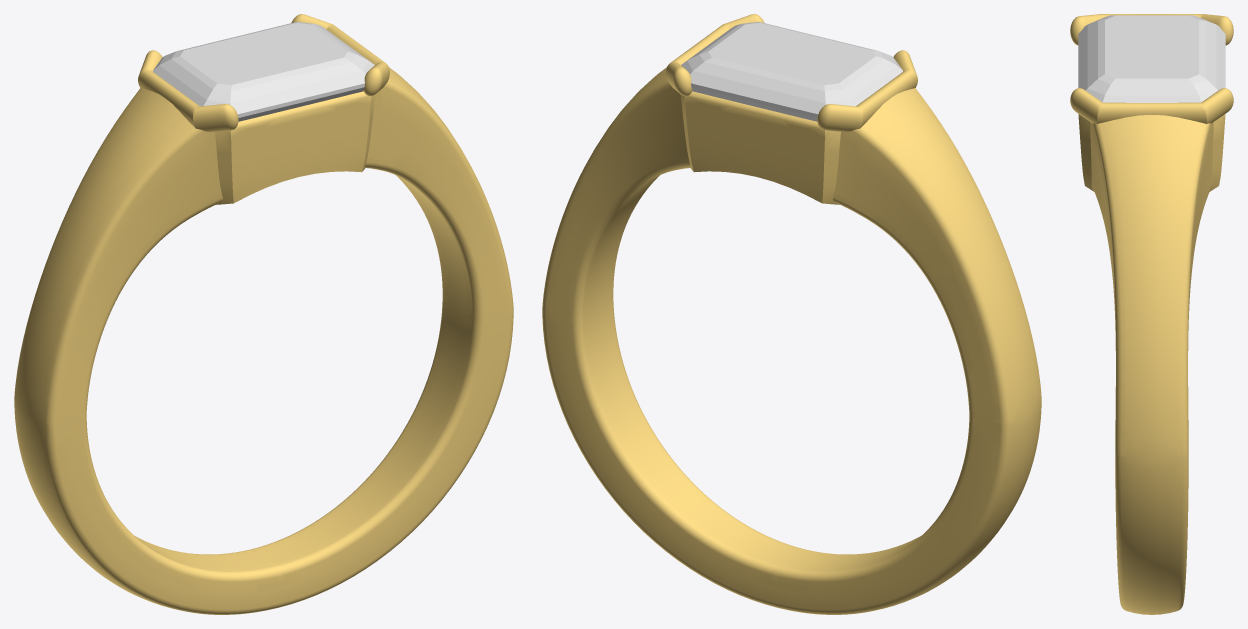
Rendered from GianV2eng_blender.glb.
3 views of the same model, side by side, from view 1: azimuth 30°, elevation 25°; view 2: azimuth 150°, elevation 25°; view 3: azimuth 270°, elevation 25° (orthographic).
Parts seen in each view (by area): view 1: Gian taper YG for 3d model, Gian dia for 3d model; view 2: Gian taper YG for 3d model, Gian dia for 3d model; view 3: Gian taper YG for 3d model, Gian dia for 3d model.
Part boxes in pixels (x1=…): Gian taper YG for 3d model: x1=14, y1=14, x2=513, y2=614; Gian dia for 3d model: x1=153, y1=22, x2=374, y2=121; Gian taper YG for 3d model: x1=542, y1=14, x2=1041, y2=614; Gian dia for 3d model: x1=681, y1=22, x2=902, y2=121; Gian taper YG for 3d model: x1=1070, y1=14, x2=1233, y2=614; Gian dia for 3d model: x1=1078, y1=15, x2=1225, y2=102.
Size of the model in its own units: 19.95 by 22.02 by 6.01.
